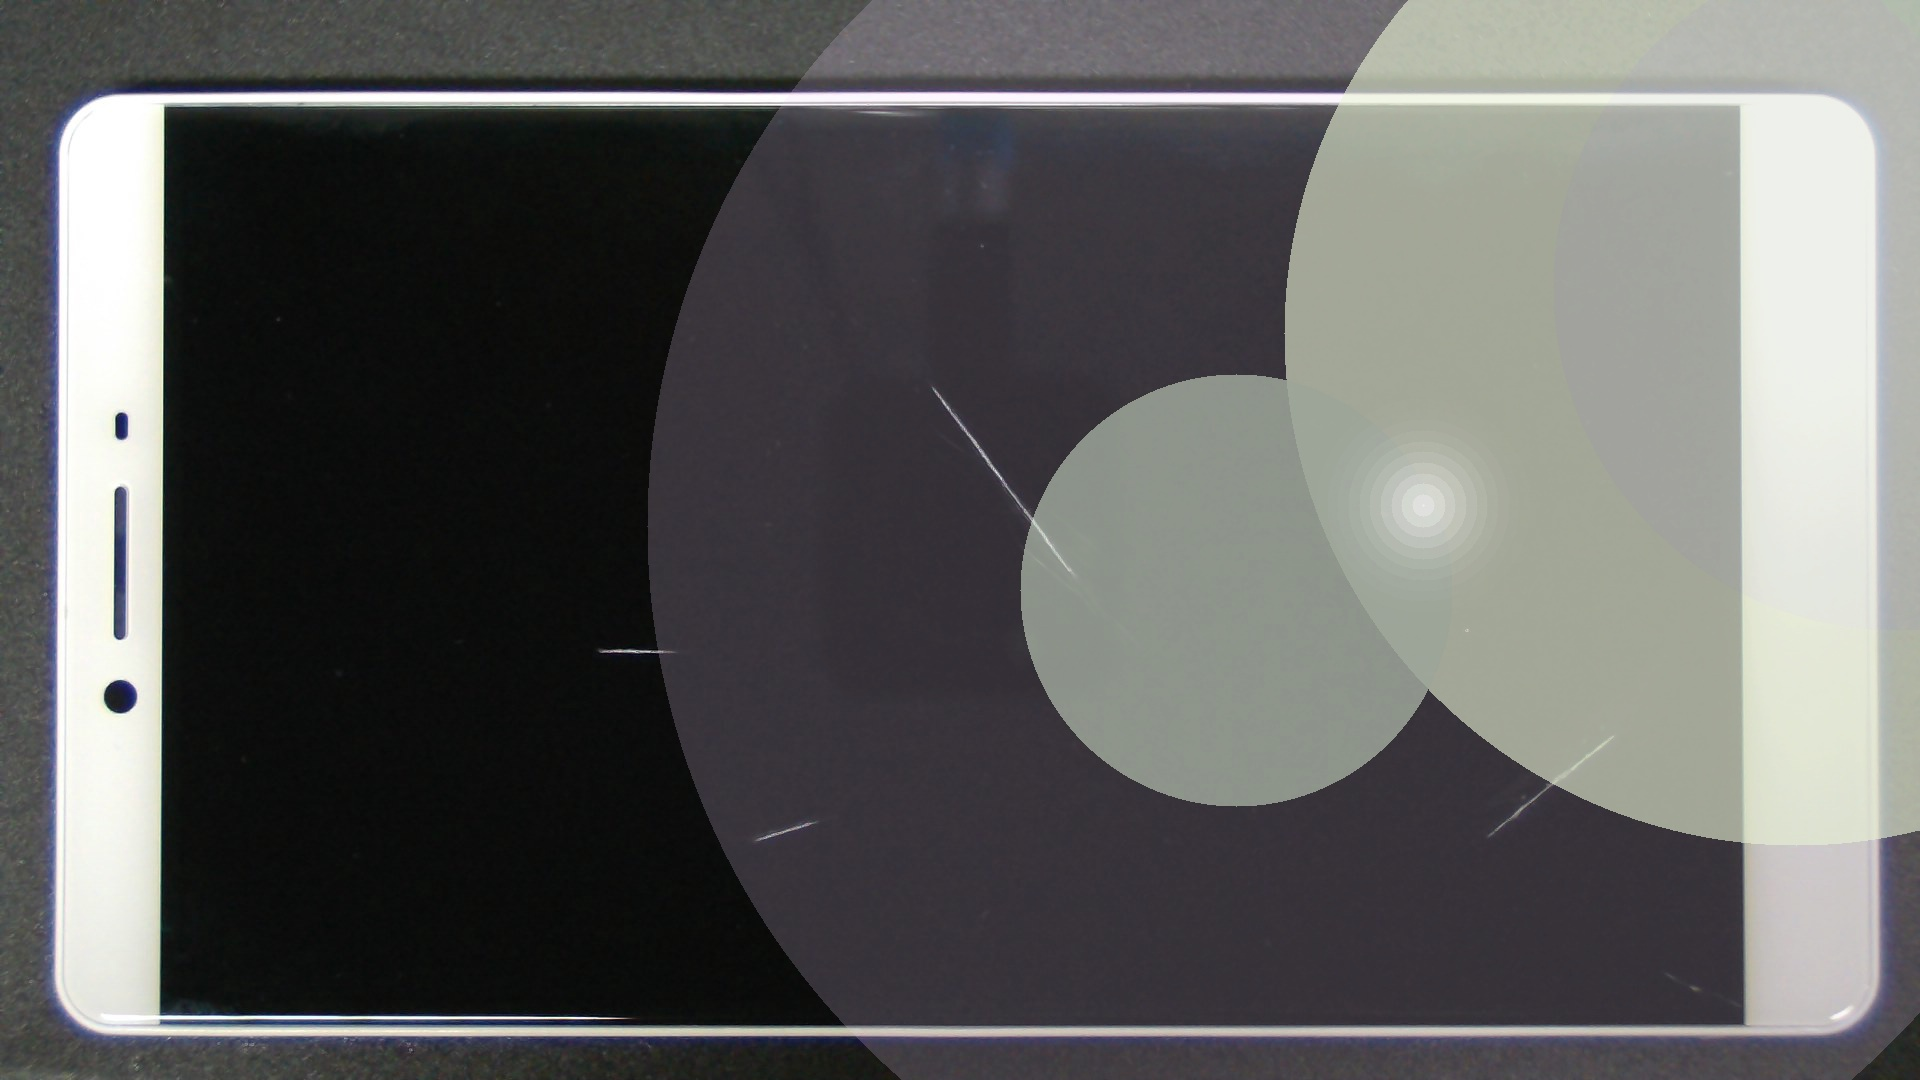oil: (807, 367, 1920, 1080), (409, 410, 1225, 1080), (298, 323, 895, 973), (468, 193, 1400, 579)
